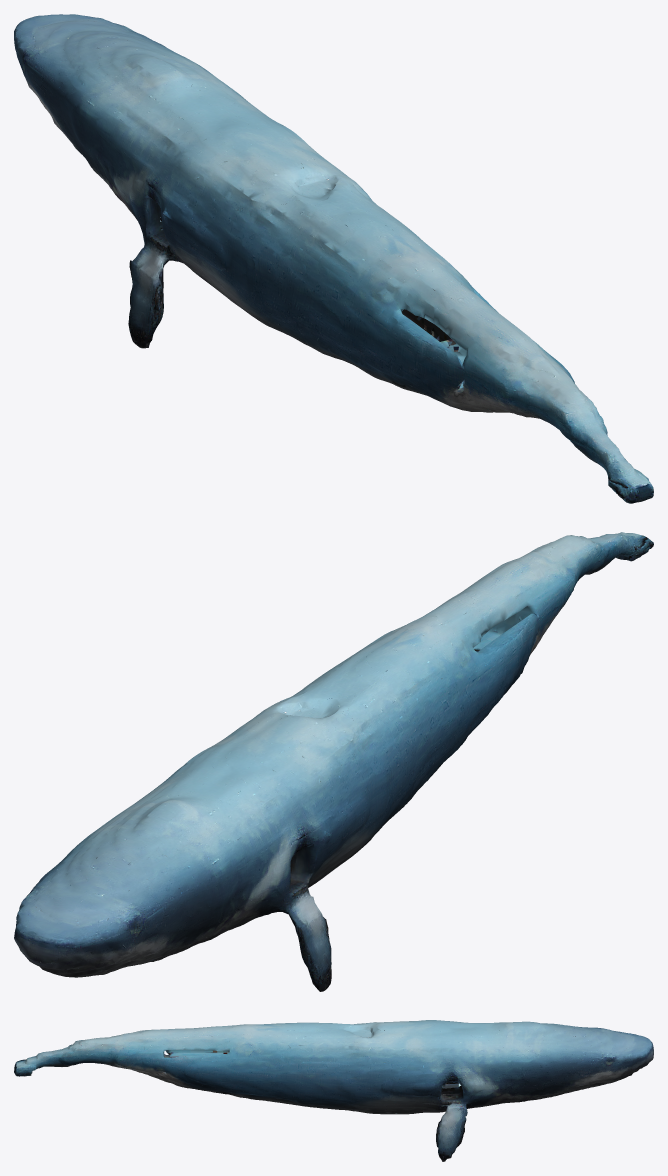
Rendered from whale.glb.
The picture shows the model from 3 angles, top to bottom: view 1: azimuth 30°, elevation 25°; view 2: azimuth 150°, elevation 25°; view 3: azimuth 270°, elevation 25°; orthographic projection. The views are drawn at different scales.
Visible parts, largest first — view 1: whale; view 2: whale; view 3: whale.
Part boxes in pixels (left/top/right/bottom): whale: left=14, top=14, right=653, bottom=503; whale: left=14, top=532, right=653, bottom=991; whale: left=14, top=1020, right=653, bottom=1161.
Size of the model in its own units: 0.3423 by 0.3704 by 1.88.
Materials: 1 (1 with a texture image).
